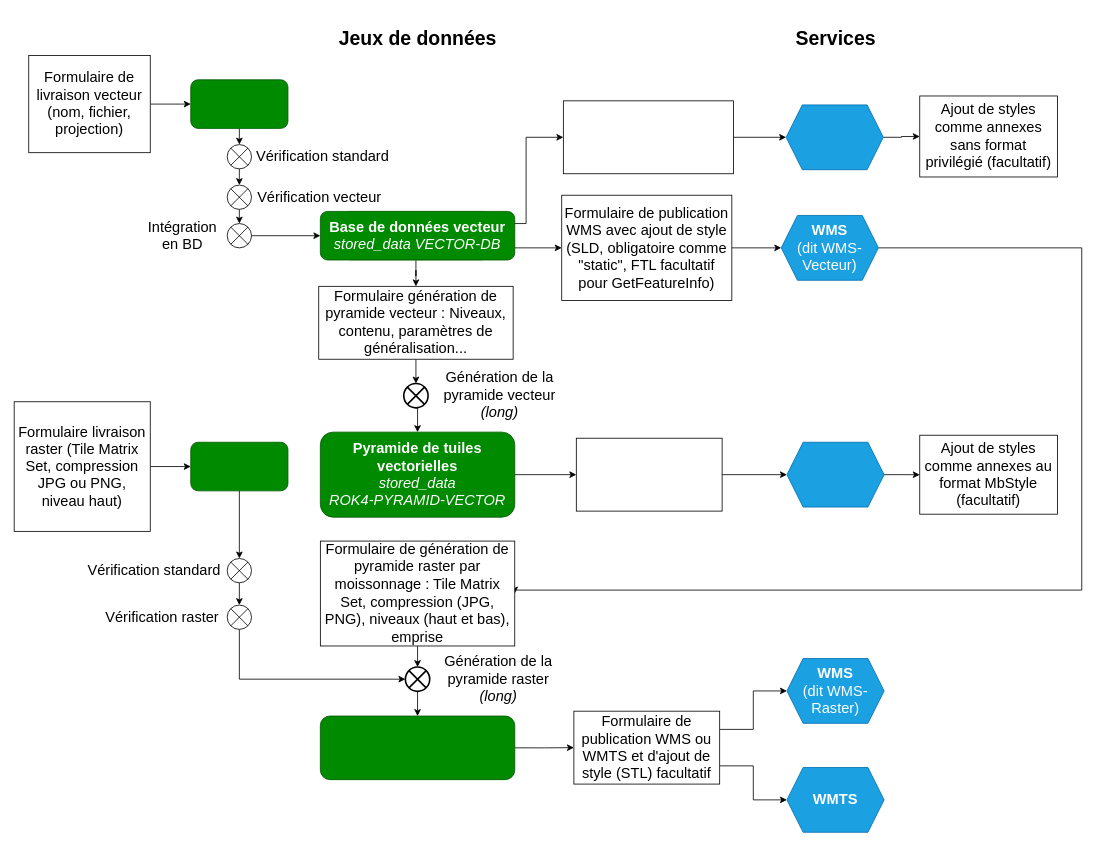
Image size: 1102x846. Some labels were removed from this diagram. The centre of each missing label's shape, as x and y in pixels:
Formulaire de publication TMS: (649,474)
Formulaire de publication WFS: (648,137)
Livraison Raster: (239,466)
Livraison Vector: (239,103)
Pyramide d'images stored_data ROK4-PYRAMID-RASTER: (417,747)
TMS / WMTS: (835,474)
WFS: (834,137)
